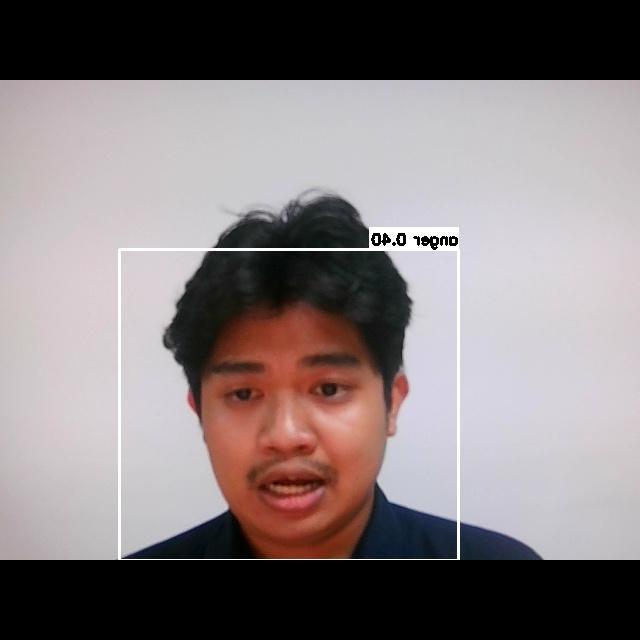Fear: (194, 331, 404, 521)
